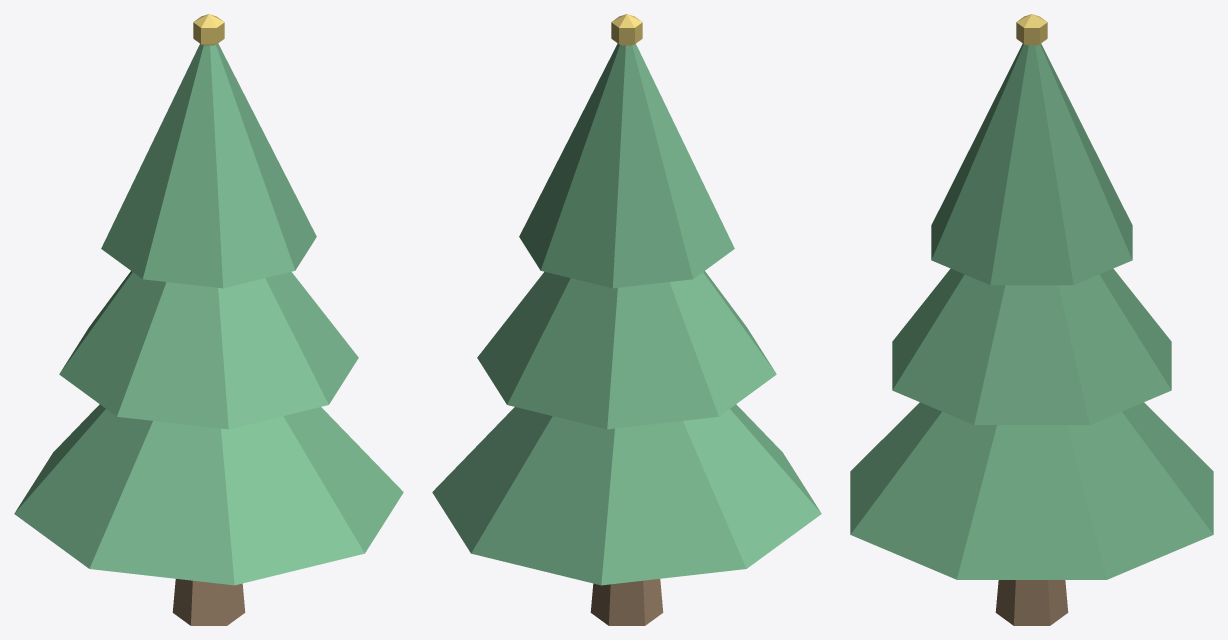
Rendered from tree_pine.glb.
The picture shows the model from 3 angles, left to right: view 1: azimuth 30°, elevation 25°; view 2: azimuth 150°, elevation 25°; view 3: azimuth 270°, elevation 25°; orthographic projection.
Visible parts, largest first — view 1: Player; view 2: Player; view 3: Player.
Part boxes in pixels (x1=…): Player: x1=14, y1=14, x2=403, y2=625; Player: x1=432, y1=14, x2=821, y2=625; Player: x1=850, y1=14, x2=1213, y2=625.
Bounding box in the file's own units: 2.4 × 4.37 × 2.4.
